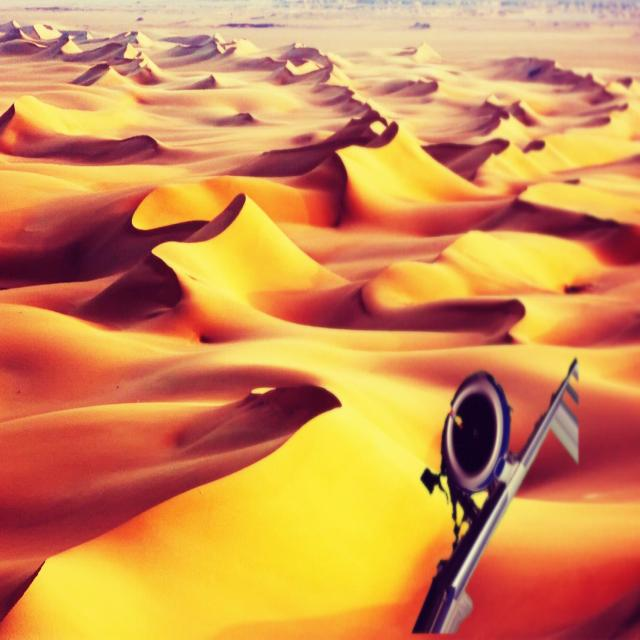airplane: (412, 362, 580, 634)
